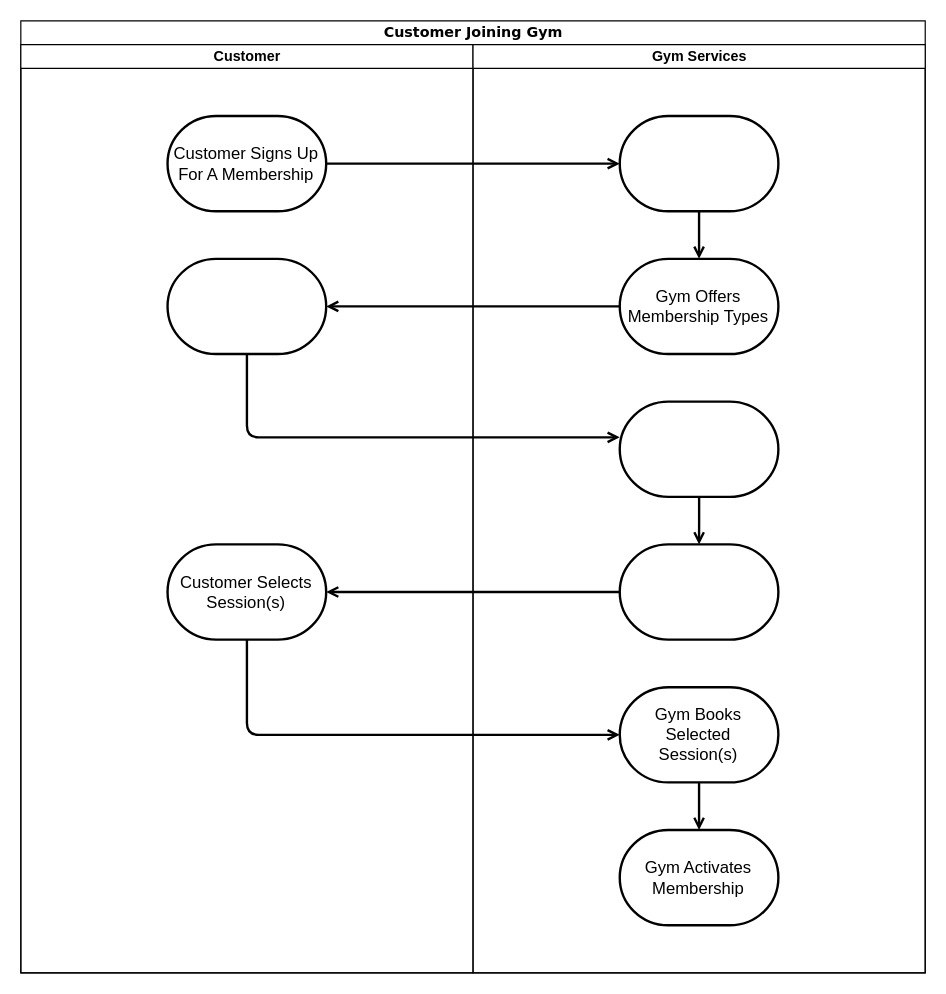
This 946x994 diagram has some shape labels left out. Each missing label, with the box of its shape:
Customer Selects Membership Type: (166, 257, 327, 355)
Gym Adds Customer To Database: (618, 114, 779, 212)
Gym Offers List of Sessions: (618, 543, 779, 640)
Gym Updates Customer Data: (618, 400, 779, 497)
